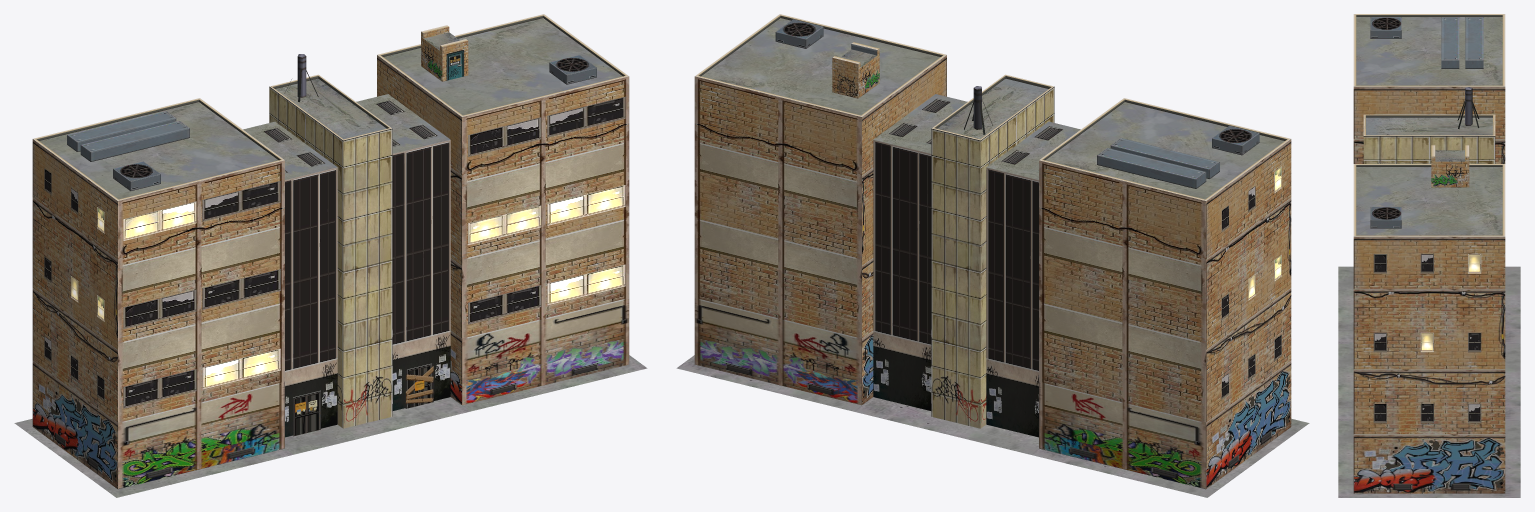
Rendered from Projects.glb.
3 views of the same model, side by side, from view 1: azimuth 30°, elevation 25°; view 2: azimuth 150°, elevation 25°; view 3: azimuth 270°, elevation 25° (orthographic). The views are drawn at different scales.
Visible parts, largest first — view 1: pasted__pCube27, pasted__pCube20, pasted__pCube19, pasted__pCube28, pasted__pCube18, pasted__pCube26, LMProjects2_pasted__group65_pasted__pCube40, pasted__pCube1, LMProjects2_pasted__group65_pasted__pCube39_LMProjects1GLOW_, pasted__BD_ConcreteBlock1, pasted__BD_ConcreteBlock3, pasted__pCube54 (+8 smaller); view 2: pasted__pCube27, pasted__pCube20, pasted__pCube19, pasted__pCube18, pasted__pCube28, pasted__pCube26, pasted__pCube1, pasted__BD_ConcreteBlock1, pasted__BD_ConcreteBlock3, pasted__pCube53, pasted__BD_ConcreteBlock2, pasted__pCube54 (+5 smaller); view 3: pasted__pCube20, pasted__pCube27, pasted__pCube1, pasted__pCube19, pasted__BD_ConcreteBlock2, pasted__BD_ConcreteBlock3, pasted__BD_ConcreteBlock1, LMProjects2_pasted__group65_pasted__pCube40, pasted__pCube66, pasted__pCube53, pasted__pCube54, pasted__pCube52 (+3 smaller).
Boxes of the visible parts, x1,y1,x2,y2 form: pasted__pCube27: (32,98,284,422); pasted__pCube20: (377,14,629,338); pasted__pCube19: (269,74,392,428); pasted__pCube28: (32,360,284,489); pasted__pCube18: (356,94,450,410); pasted__pCube26: (243,121,337,437); LMProjects2_pasted__group65_pasted__pCube40: (44,96,625,408); pasted__pCube1: (450,298,629,405); LMProjects2_pasted__group65_pasted__pCube39_LMProjects1GLOW_: (71,185,625,389); pasted__BD_ConcreteBlock1: (285,397,469,454); pasted__BD_ConcreteBlock3: (14,418,293,497); pasted__pCube54: (80,121,189,161); pasted__pCube27: (1039,98,1291,422); pasted__pCube20: (694,14,946,338); pasted__pCube19: (931,74,1054,428); pasted__pCube18: (873,94,967,410); pasted__pCube28: (1039,360,1291,489); pasted__pCube26: (986,121,1080,437); pasted__pCube1: (694,298,873,405); pasted__BD_ConcreteBlock1: (854,397,1038,454); pasted__BD_ConcreteBlock3: (1030,418,1309,497); pasted__pCube53: (1097,148,1206,188); pasted__BD_ConcreteBlock2: (676,355,861,411); pasted__pCube54: (1110,138,1219,178); pasted__pCube20: (1353,164,1505,433); pasted__pCube27: (1353,14,1505,163); pasted__pCube1: (1353,434,1505,493); pasted__pCube19: (1363,114,1495,163); pasted__BD_ConcreteBlock2: (1338,421,1520,497); pasted__BD_ConcreteBlock3: (1338,266,1520,343); pasted__BD_ConcreteBlock1: (1338,344,1520,420); LMProjects2_pasted__group65_pasted__pCube40: (1373,254,1481,423); pasted__pCube66: (1435,150,1464,187); pasted__pCube53: (1465,17,1483,68); pasted__pCube54: (1441,17,1459,68); pasted__pCube52: (1370,17,1401,38).
Size of the model in its own units: 5400 by 3166 by 1800.
Materials: 3 (3 with a texture image).
